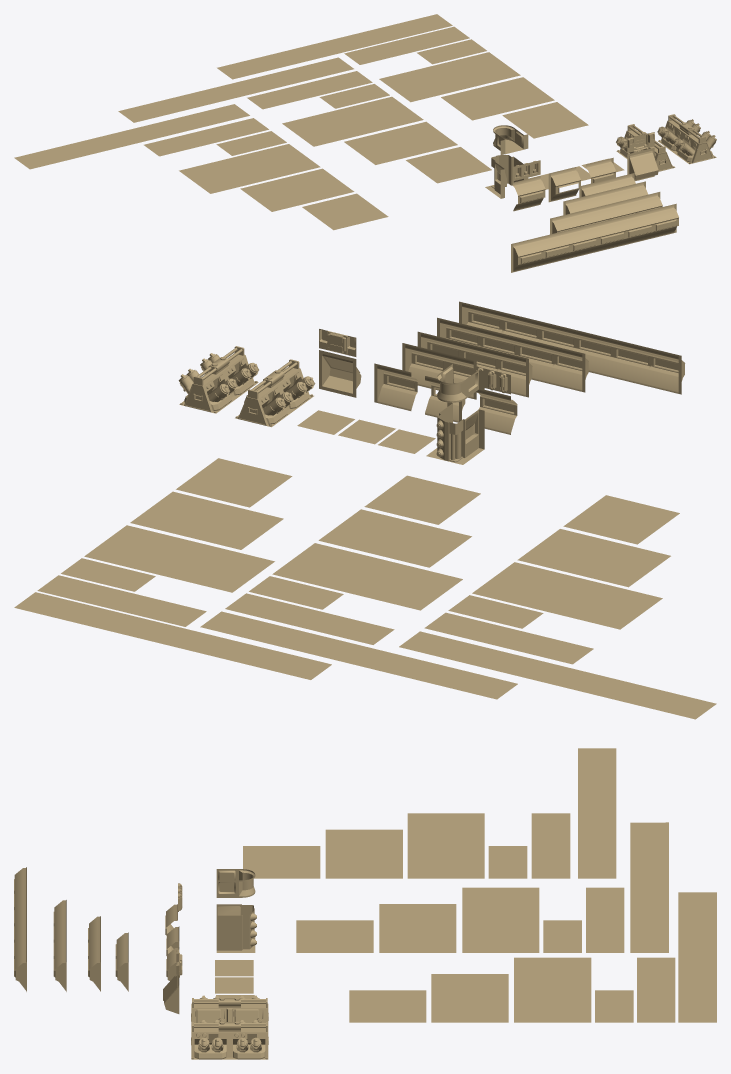
Rendered from Supply_Room.fbx.
The picture shows the model from 3 angles, top to bottom: view 1: azimuth 30°, elevation 25°; view 2: azimuth 150°, elevation 25°; view 3: azimuth 270°, elevation 25°; orthographic projection. The views are drawn at different scales.
Parts seen in each view (by area): view 1: SR_v8_7, SR_v4_7, SR_v2_7, SR_v3_7, SR_v3_4, SR_v4_4, SR_v2_4, SR_v3_3, SR_v4_3, SR_v2_3, SR_v1_2, SR_v8_6 (+21 smaller); view 2: SR_v3_7, SR_v4_7, SR_v2_7, SR_v3_4, SR_v2_4, SR_v4_4, SR_v8_7, SR_v3_3, SR_v2_3, SR_v4_3, SR_v8_6, SR_v1_2 (+24 smaller); view 3: SR_v4_4, SR_v2_4, SR_v3_4, SR_v2_7, SR_v3_7, SR_v4_7, SR_v4_3, SR_v2_3, SR_v3_3, SR_v1_2, SR_v4_6, SR_v2_2 (+16 smaller).
Boxes of the visible parts, left/top/right/bottom form: SR_v8_7: left=511, top=203, right=678, bottom=272; SR_v4_7: left=14, top=104, right=249, bottom=169; SR_v2_7: left=217, top=14, right=452, bottom=79; SR_v3_7: left=118, top=57, right=353, bottom=122; SR_v3_4: left=282, top=96, right=423, bottom=146; SR_v4_4: left=179, top=144, right=320, bottom=193; SR_v2_4: left=379, top=52, right=520, bottom=102; SR_v3_3: left=344, top=121, right=457, bottom=164; SR_v4_3: left=240, top=168, right=354, bottom=211; SR_v2_3: left=441, top=77, right=554, bottom=120; SR_v1_2: left=657, top=114, right=716, bottom=164; SR_v8_6: left=550, top=192, right=662, bottom=234; SR_v3_7: left=200, top=611, right=517, bottom=699; SR_v4_7: left=399, top=631, right=716, bottom=719; SR_v2_7: left=14, top=592, right=331, bottom=679; SR_v3_4: left=272, top=543, right=462, bottom=610; SR_v2_4: left=84, top=525, right=274, bottom=592; SR_v4_4: left=472, top=562, right=662, bottom=629; SR_v8_7: left=459, top=301, right=685, bottom=394; SR_v3_3: left=318, top=509, right=471, bottom=567; SR_v2_3: left=130, top=491, right=283, bottom=549; SR_v4_3: left=517, top=529, right=670, bottom=587; SR_v8_6: left=437, top=317, right=588, bottom=392; SR_v1_2: left=178, top=346, right=258, bottom=413; SR_v4_4: left=407, top=813, right=484, bottom=878; SR_v2_4: left=514, top=957, right=591, bottom=1022; SR_v3_4: left=462, top=887, right=539, bottom=952; SR_v2_7: left=678, top=892, right=716, bottom=1022; SR_v3_7: left=630, top=822, right=668, bottom=952; SR_v4_7: left=578, top=748, right=616, bottom=878; SR_v4_3: left=325, top=829, right=402, bottom=878; SR_v2_3: left=431, top=974, right=508, bottom=1022; SR_v3_3: left=379, top=904, right=456, bottom=952; SR_v1_2: left=191, top=1020, right=268, bottom=1059; SR_v4_6: left=531, top=813, right=570, bottom=878; SR_v2_2: left=349, top=990, right=426, bottom=1022.
Size of the model in its own units: 57.88 by 6.18 by 54.7.
